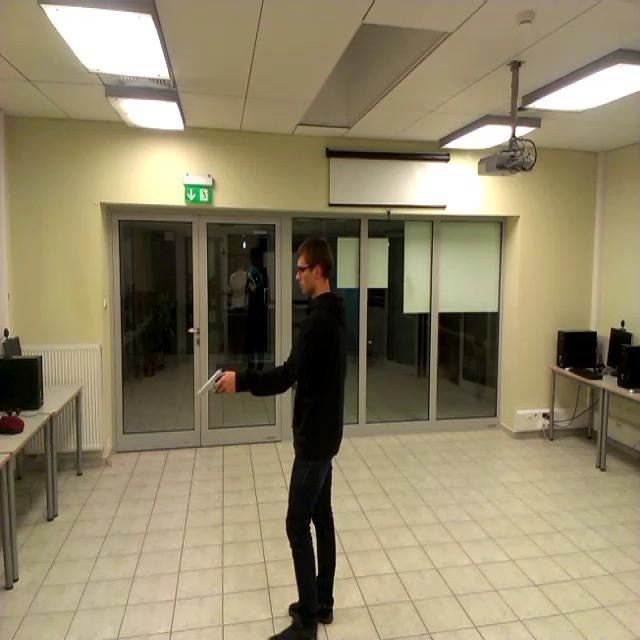Gun: (199, 366, 228, 394)
